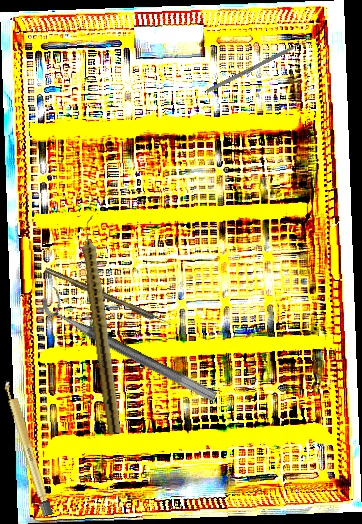Fixation Ring: (37, 285, 225, 403)
Handpiece: (77, 214, 126, 436)
Hook Surgical: (43, 266, 172, 328)
Pusher: (205, 34, 317, 94)
Scalpel Handle: (1, 377, 55, 518)
